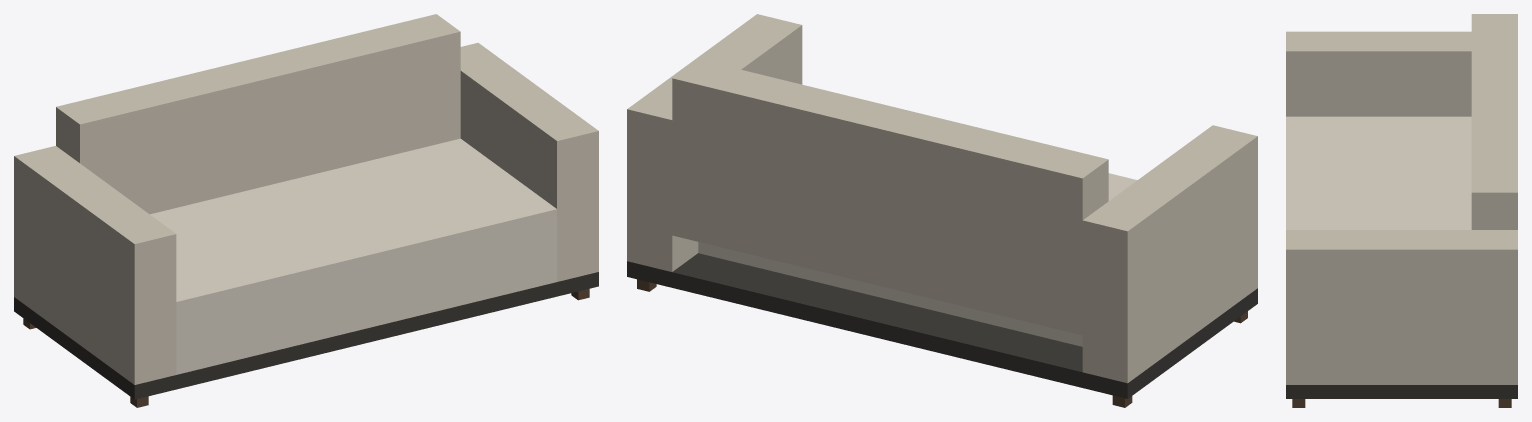
Rendered from sofa-3p.glb.
3 views of the same model, side by side, from view 1: azimuth 30°, elevation 25°; view 2: azimuth 150°, elevation 25°; view 3: azimuth 270°, elevation 25° (orthographic). The views are drawn at different scales.
Visible parts, largest first — view 1: sofa-3p; view 2: sofa-3p; view 3: sofa-3p.
Boxes of the visible parts, box(x1,y1,x2,y2) form: sofa-3p: box(14, 14, 598, 407); sofa-3p: box(627, 14, 1257, 407); sofa-3p: box(1286, 14, 1517, 407).
Size of the model in its own units: 2 by 0.85 by 0.9.
